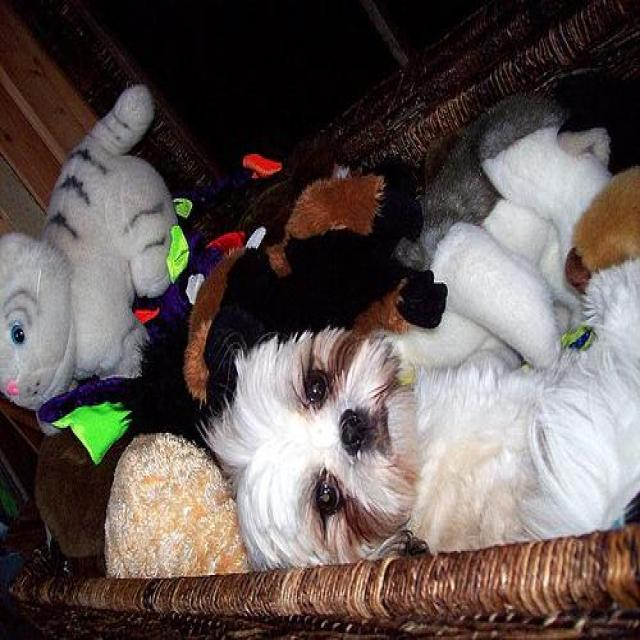shih_tzu: (201, 325, 555, 575)
